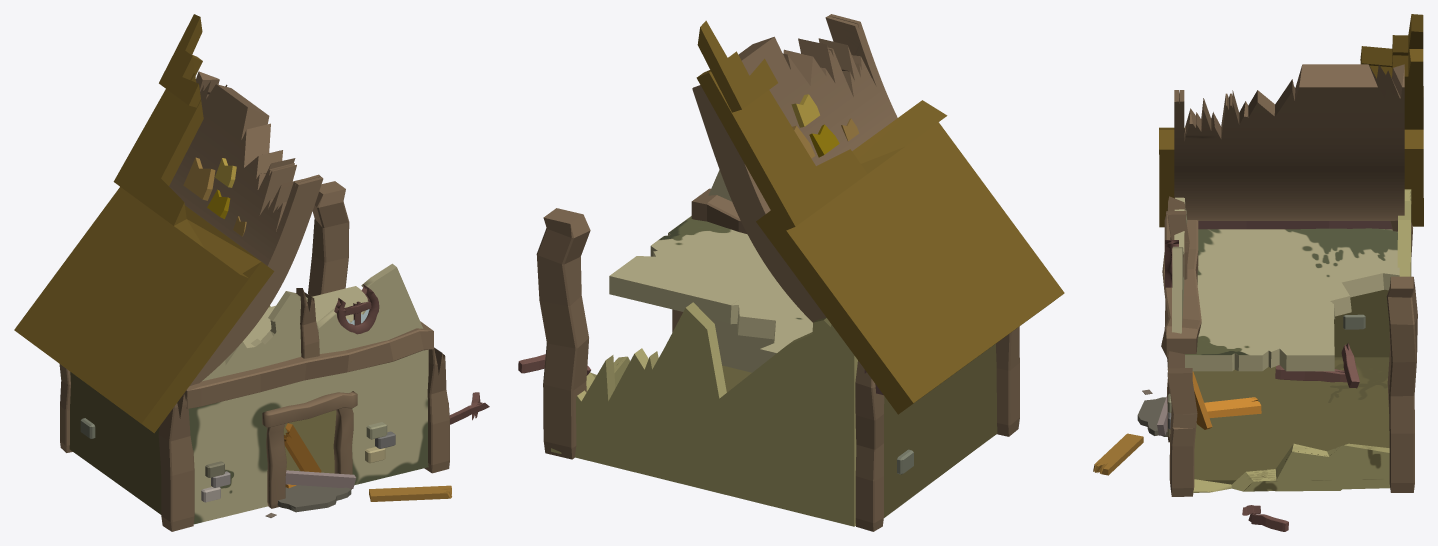
File: Cottage_house_destroyed2.glb
3 views of the same model, side by side, from view 1: azimuth 30°, elevation 25°; view 2: azimuth 150°, elevation 25°; view 3: azimuth 270°, elevation 25° (orthographic). The views are drawn at different scales.
Visible parts, largest first — view 1: Cube.052, Cube.038, NurbsPath.001, Cube.040, Cube.041, Cube.058, Cube.004, Cube.044, Cube.039, Cube.036, Cube.023, Cube.056 (+9 smaller); view 2: Cube.052, Cube.035, NurbsPath.001, Cube.056, Cube.041, Cube.039, Cube.037, Cube.044, Cube.038, Cube.058; view 3: NurbsPath.001, Cube.056, Cube.023, Cube.052, Cube.003, Cube.039, Cube.036, Cube.058, Cube.041, Cube.053, Cube.040, Cube.035 (+9 smaller).
Boxes of the visible parts, box(x1,y1,x2,y2) form: Cube.052: box(14, 14, 274, 433); Cube.038: box(188, 350, 428, 524); NurbsPath.001: box(169, 71, 323, 386); Cube.040: box(202, 263, 426, 381); Cube.041: box(69, 372, 161, 514); Cube.058: box(184, 321, 433, 408); Cube.004: box(262, 391, 357, 508); Cube.044: box(158, 394, 194, 531); Cube.039: box(308, 181, 349, 296); Cube.036: box(424, 347, 449, 473); Cube.023: box(283, 410, 336, 473); Cube.056: box(243, 286, 367, 344); Cube.052: box(696, 20, 1064, 414); Cube.035: box(575, 302, 857, 526); NurbsPath.001: box(692, 14, 897, 322); Cube.056: box(609, 216, 812, 366); Cube.041: box(884, 344, 997, 517); Cube.039: box(536, 208, 590, 459); Cube.037: box(855, 360, 884, 531); Cube.044: box(996, 326, 1019, 436); Cube.038: box(709, 318, 773, 372); Cube.058: box(691, 188, 746, 233); NurbsPath.001: box(1174, 64, 1404, 220); Cube.056: box(1185, 228, 1399, 371); Cube.023: box(1193, 357, 1389, 484); Cube.052: box(1159, 14, 1423, 227); Cube.003: box(1193, 443, 1390, 492); Cube.039: box(1386, 276, 1417, 492); Cube.036: box(1167, 351, 1197, 496); Cube.058: box(1161, 213, 1201, 357); Cube.041: box(1334, 290, 1389, 357); Cube.053: box(1198, 221, 1392, 229); Cube.040: box(1172, 197, 1187, 333); Cube.035: box(1397, 189, 1411, 276).
Bounding box in the file's own units: 9.9 × 9.48 × 6.84.
Materials: 40 (5 with a texture image).
